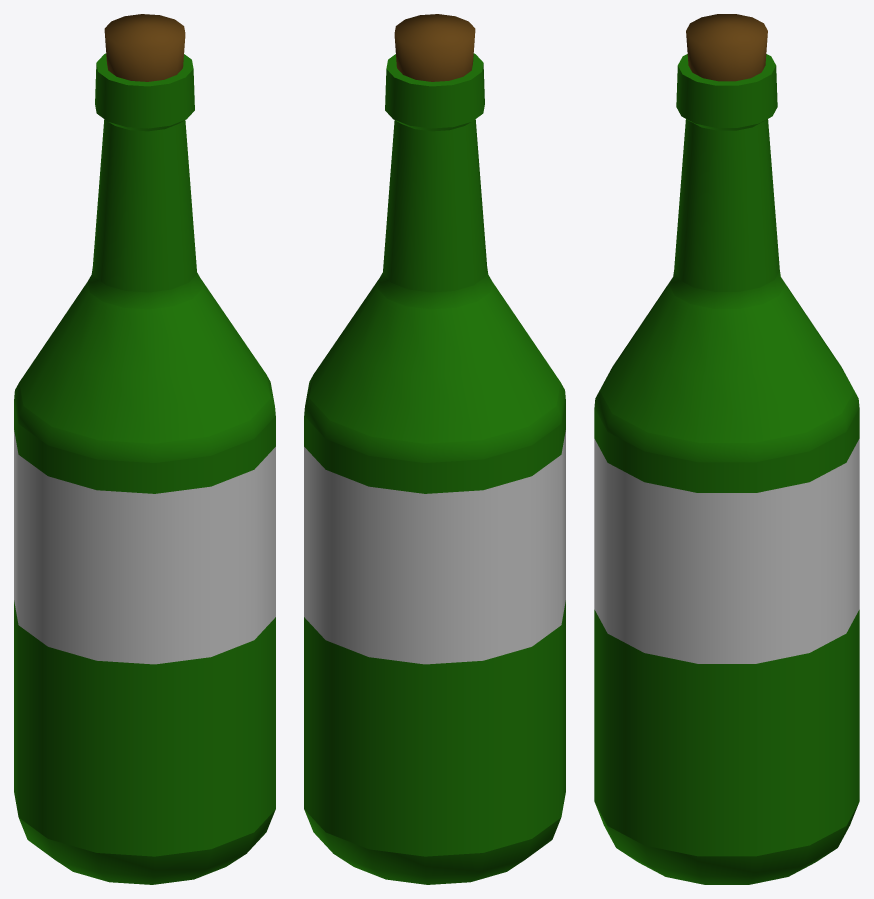
Rendered from Wine_bottle.fbx.
The picture shows the model from 3 angles, left to right: view 1: azimuth 30°, elevation 25°; view 2: azimuth 150°, elevation 25°; view 3: azimuth 270°, elevation 25°; orthographic projection.
Parts seen in each view (by area): view 1: Bottle, Plug; view 2: Bottle, Plug; view 3: Bottle, Plug.
Boxes of the visible parts, <box> form: Bottle: <box>14,53,275,884</box>; Plug: <box>104,14,185,81</box>; Bottle: <box>304,53,565,884</box>; Plug: <box>394,14,475,81</box>; Bottle: <box>594,54,859,884</box>; Plug: <box>686,14,767,81</box>.
Size of the model in its own units: 136 by 477 by 140.
